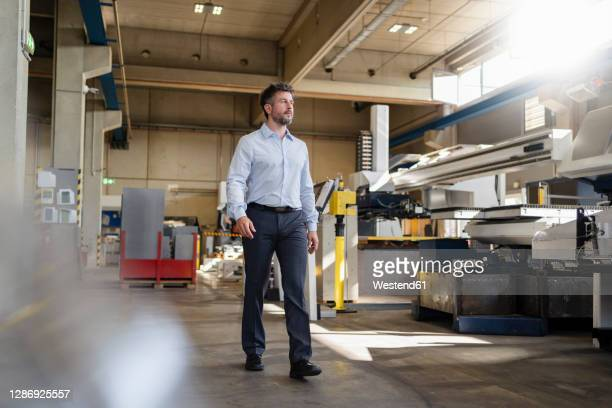person: (227, 84, 322, 376)
